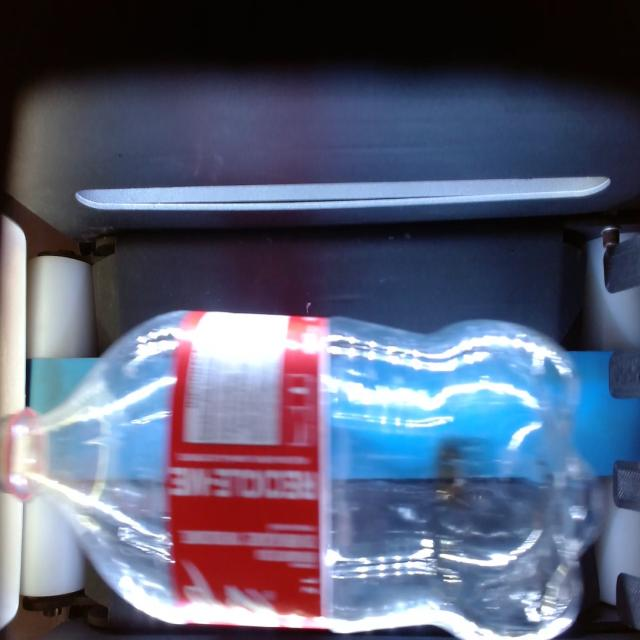bottle: (0, 311, 601, 638)
